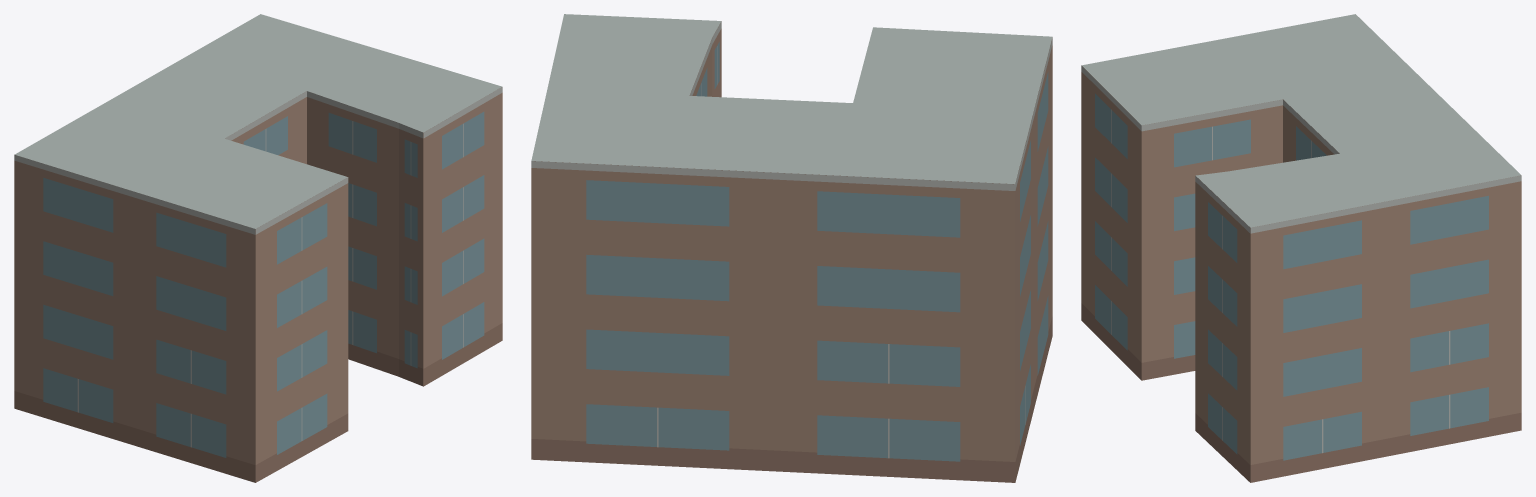
The model's file is survey-upis-32969457.glb.
The picture shows the model from 3 angles, left to right: view 1: azimuth 30°, elevation 25°; view 2: azimuth 150°, elevation 25°; view 3: azimuth 270°, elevation 25°; orthographic projection. The views are drawn at different scales.
Parts seen in each view (by area): view 1: survey-upis-32969457.tmp; view 2: survey-upis-32969457.tmp; view 3: survey-upis-32969457.tmp.
Part boxes in pixels (x1,y1,x2,y2): survey-upis-32969457.tmp: [14, 14, 502, 482]; survey-upis-32969457.tmp: [531, 14, 1052, 482]; survey-upis-32969457.tmp: [1081, 14, 1521, 482].
Size of the model in its own units: 18.78 by 10.45 by 16.35.
